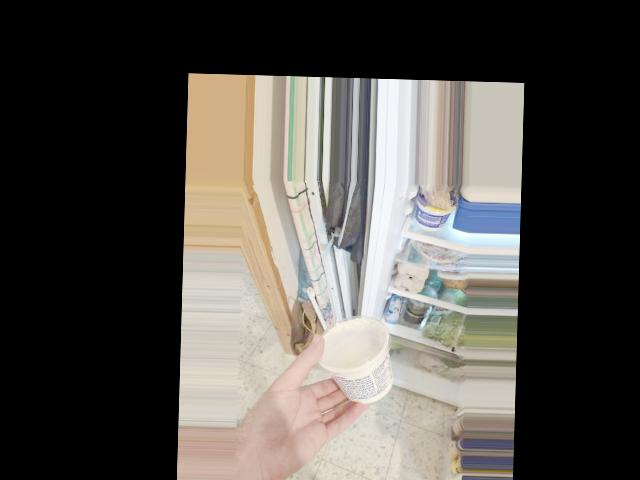cotage: (319, 316, 388, 403)
